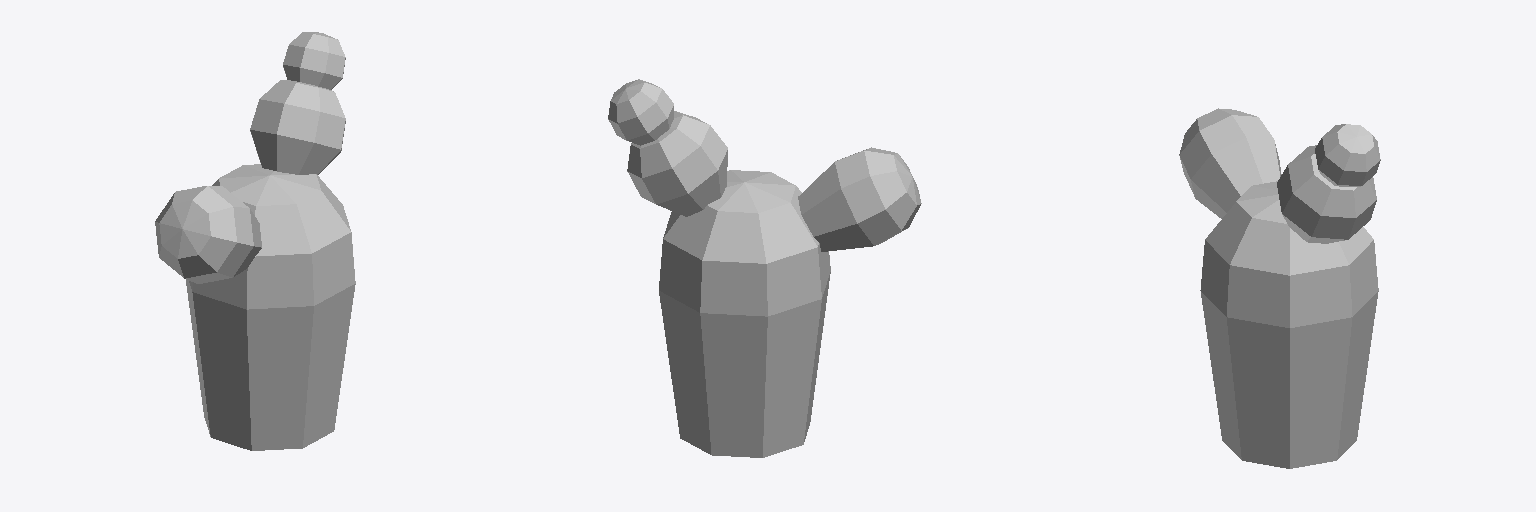
File: cactus_A.obj
3 renders of one model, left to right at view 1: azimuth 30°, elevation 25°; view 2: azimuth 150°, elevation 25°; view 3: azimuth 270°, elevation 25°, orthographic.
Parts seen in each view (by area): view 1: cactus_A; view 2: cactus_A; view 3: cactus_A.
Boxes of the visible parts, box(x1,y1,x2,y2) form: cactus_A: box(155, 32, 355, 450); cactus_A: box(608, 79, 921, 457); cactus_A: box(1179, 108, 1380, 468).
Size of the model in its own units: 0.4636 by 0.6405 by 0.3322.